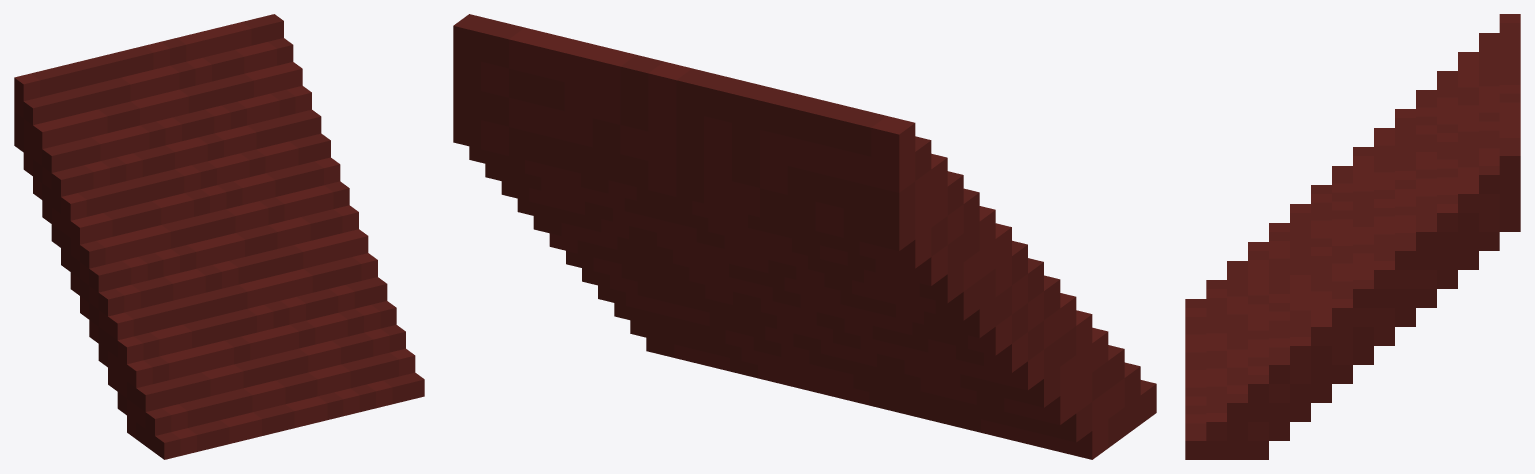
The model's file is tavern-27-roof_redmiddle.obj.
3 renders of one model, left to right at view 1: azimuth 30°, elevation 25°; view 2: azimuth 150°, elevation 25°; view 3: azimuth 270°, elevation 25°, orthographic. The views are drawn at different scales.
Visible parts, largest first — view 1: roof_redmiddle; view 2: roof_redmiddle; view 3: roof_redmiddle.
Part boxes in pixels (box(x1,y1,x2,y2)): roof_redmiddle: box(14, 14, 424, 459); roof_redmiddle: box(453, 14, 1156, 459); roof_redmiddle: box(1185, 14, 1520, 459).
Size of the model in its own units: 1.6 by 1.6 by 1.6.
1 material, 1 textured.
